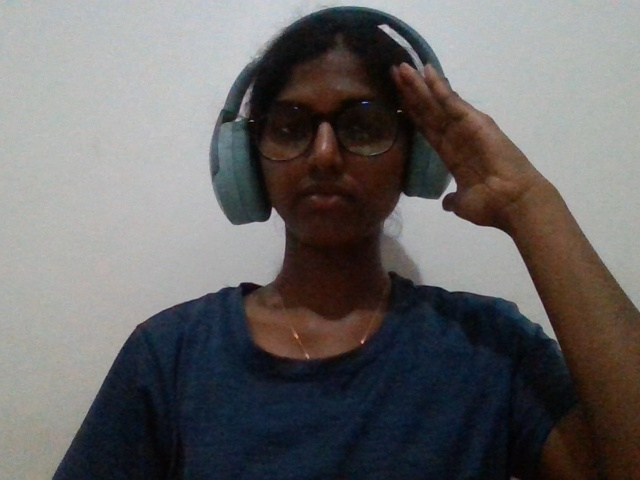Hello: (357, 37, 565, 295)
